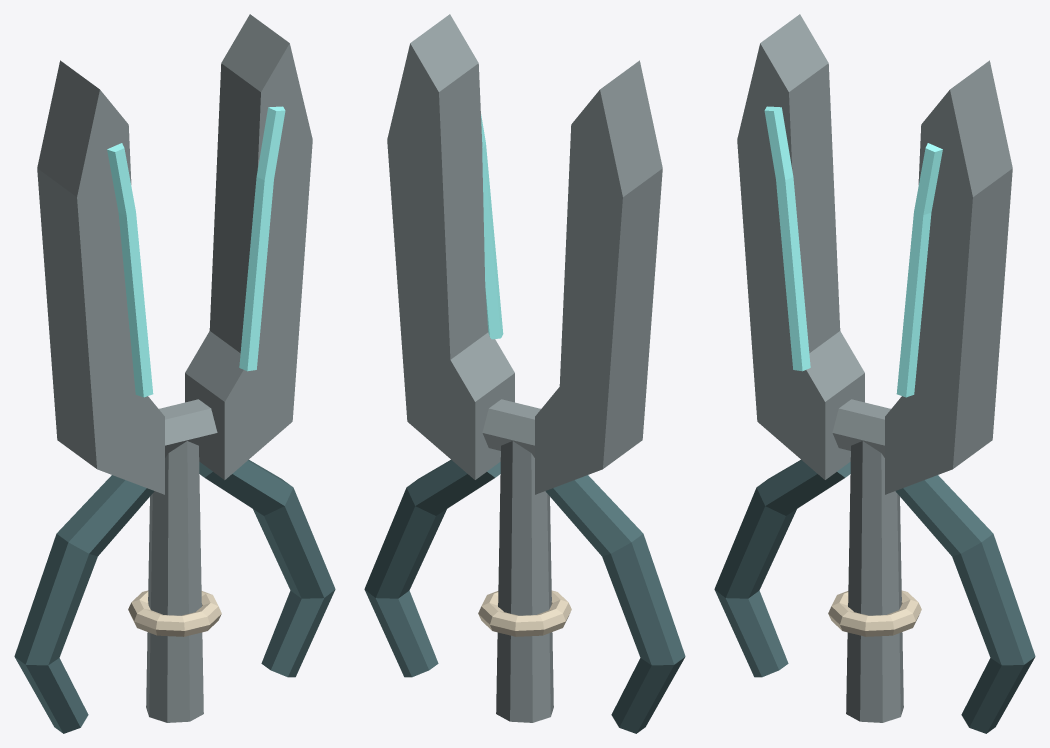
Rendered from marker_ammo_choir.glb.
The picture shows the model from 3 angles, left to right: view 1: azimuth 30°, elevation 25°; view 2: azimuth 150°, elevation 25°; view 3: azimuth 330°, elevation 25°; orthographic projection.
Parts seen in each view (by area): view 1: marker_ammo_choir_steel, marker_ammo_choir_iron, marker_ammo_choir_teal, marker_ammo_choir_bone; view 2: marker_ammo_choir_steel, marker_ammo_choir_iron, marker_ammo_choir_bone, marker_ammo_choir_teal; view 3: marker_ammo_choir_steel, marker_ammo_choir_iron, marker_ammo_choir_teal, marker_ammo_choir_bone.
Boxes of the visible parts, bbox=[...] form: marker_ammo_choir_steel: bbox=[37, 14, 312, 722]; marker_ammo_choir_iron: bbox=[14, 460, 335, 733]; marker_ammo_choir_teal: bbox=[107, 106, 285, 397]; marker_ammo_choir_bone: bbox=[128, 590, 221, 636]; marker_ammo_choir_steel: bbox=[387, 14, 662, 722]; marker_ammo_choir_iron: bbox=[364, 460, 685, 733]; marker_ammo_choir_bone: bbox=[478, 590, 571, 636]; marker_ammo_choir_teal: bbox=[481, 114, 503, 339]; marker_ammo_choir_steel: bbox=[737, 14, 1012, 722]; marker_ammo_choir_iron: bbox=[714, 460, 1035, 733]; marker_ammo_choir_teal: bbox=[764, 106, 942, 397]; marker_ammo_choir_bone: bbox=[828, 590, 921, 636].
Bounding box in the file's own units: 0.5389 × 1.1 × 0.1439.
